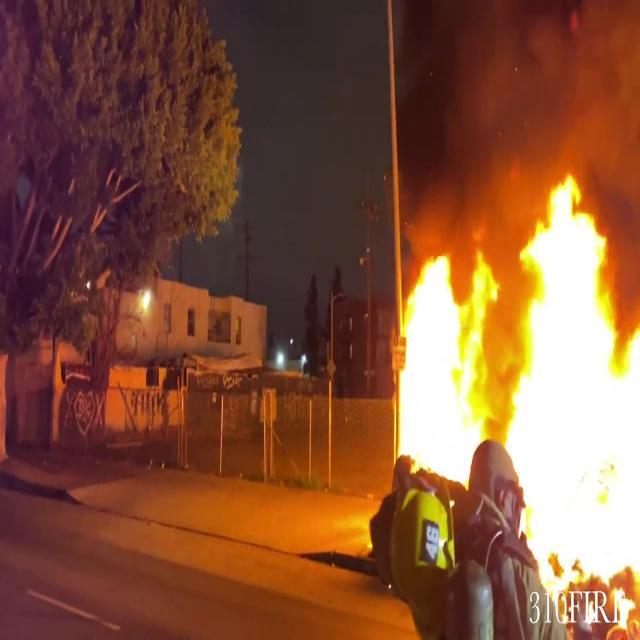Fire: (391, 167, 640, 607), (500, 168, 640, 609), (390, 244, 497, 488)
